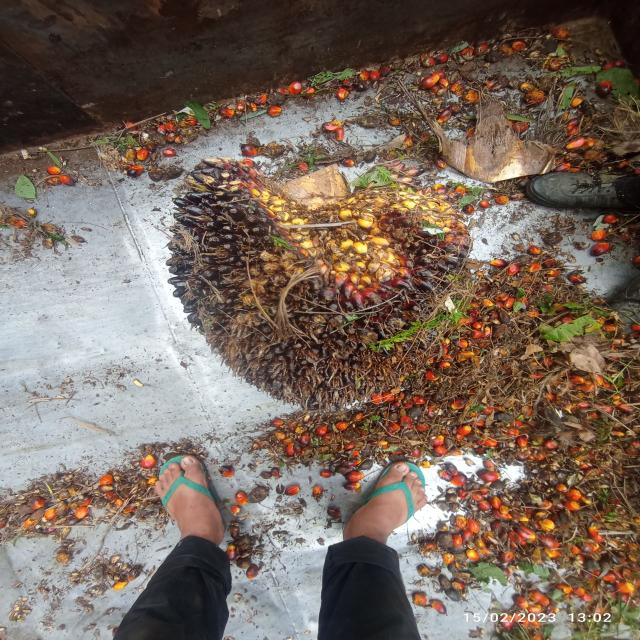fraksi 00: (124, 157, 522, 414)
